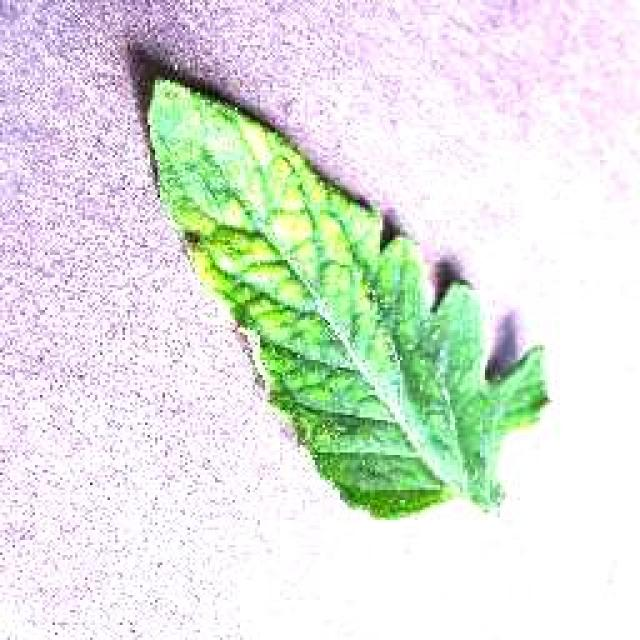Tomato___Tomato_mosaic_virus: (148, 78, 545, 515)
